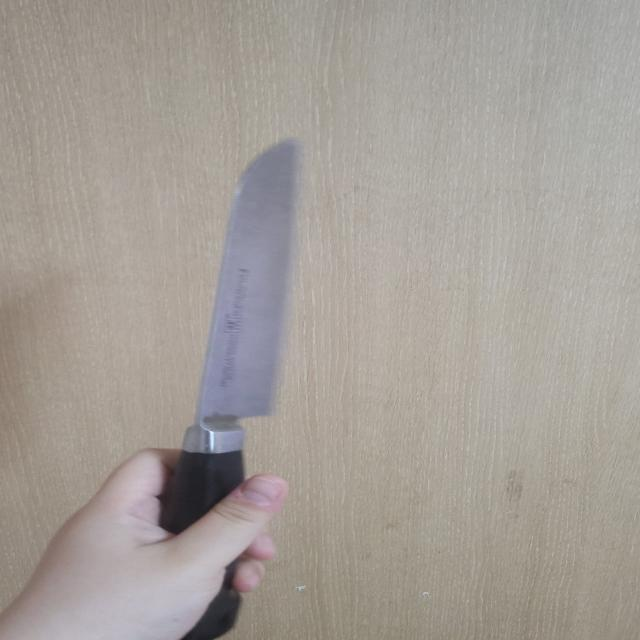knife: (163, 138, 294, 638)
